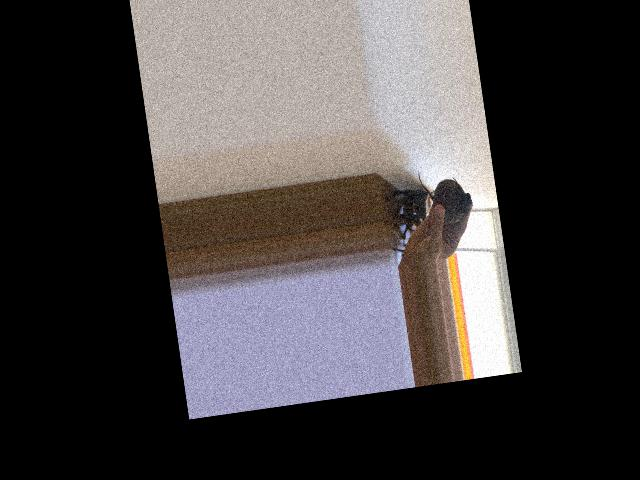beet: (417, 163, 474, 226)
